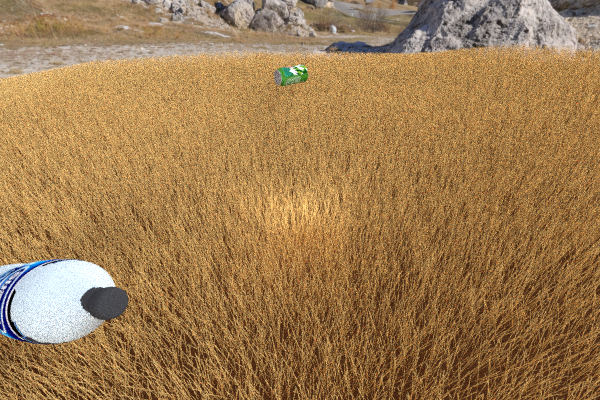bottle: (0, 259, 128, 344)
can: (274, 64, 308, 86)
